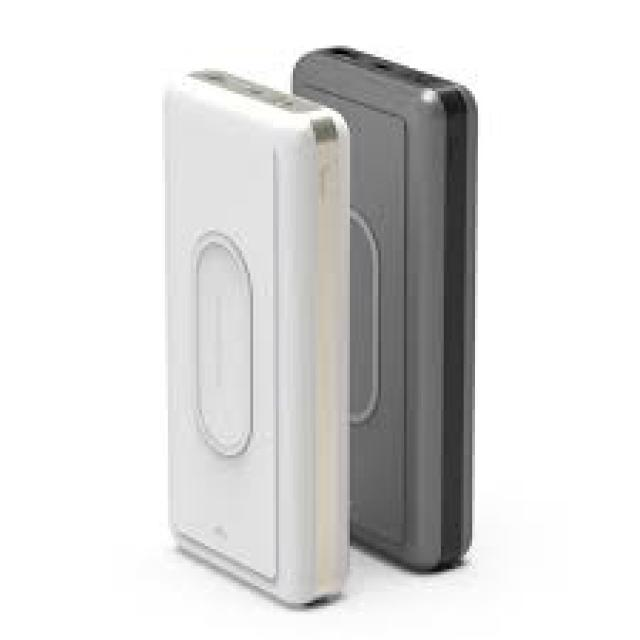portable-charger: (160, 64, 358, 614), (290, 45, 479, 578)
